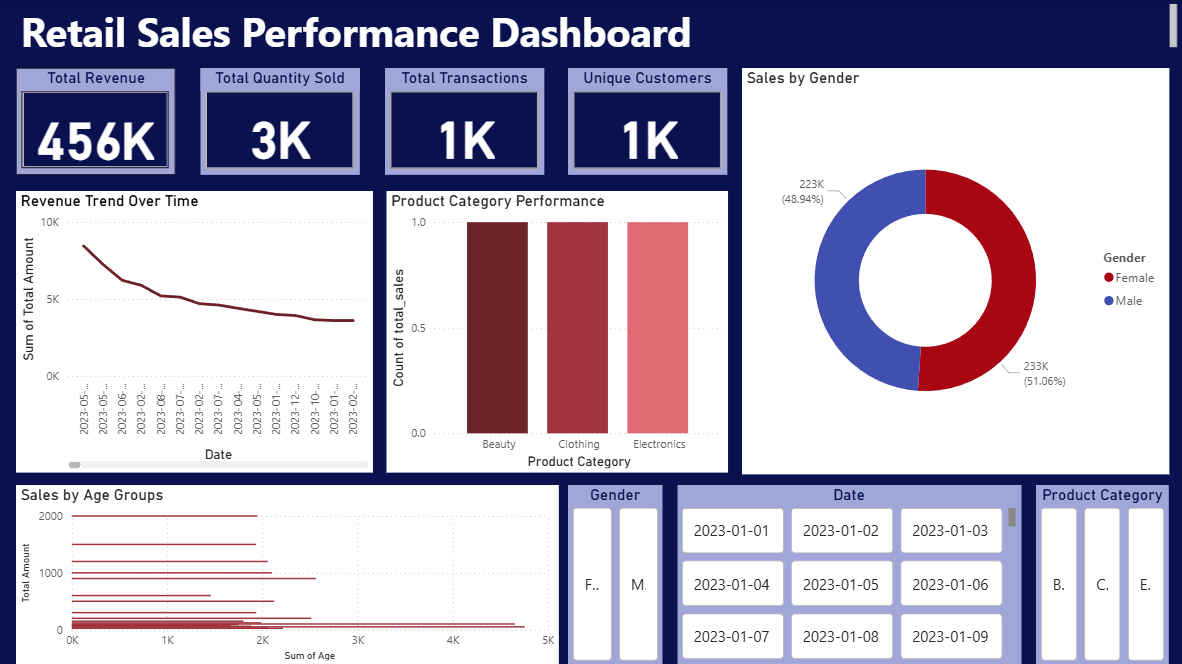

The page's visual inventory and layout, read from the dashboard file:
{"tool":"powerbi","page":{"name":"Page 1","canvas":[1280,720],"ordinal":0},"visuals":[{"type":"cardVisual","title":"Total Revenue","fields":{"Data":["Sum(retail_sales_db retail_sales_dataset.Total Amount)"]},"box":[18.9,73.7,172,115.3],"z":0},{"type":"cardVisual","title":"Total Quantity Sold","fields":{"Data":["Sum(retail_sales_db retail_sales_dataset.Quantity)"]},"box":[219.2,73.7,172,115.3],"z":1000},{"type":"cardVisual","title":"Total Transactions","fields":{"Data":["Count(retail_sales_db retail_sales_dataset.Transaction ID)"]},"box":[417.6,73.7,172,115.3],"z":2000},{"type":"cardVisual","title":"Unique Customers","fields":{"Data":["Count(retail_sales_db retail_sales_dataset.Customer ID)"]},"box":[616.1,73.7,172,115.3],"z":3000},{"type":"lineChart","title":"Revenue Trend Over Time","fields":{"Category":["retail_sales_db retail_sales_dataset.Date"],"Y":["Sum(retail_sales_db retail_sales_dataset.Total Amount)"]},"box":[18.9,207.9,385.5,304.3],"z":4000},{"type":"clusteredColumnChart","title":"Product Category Performance","fields":{"Category":["retail_sales_db category_performance.Product Category"],"Y":["CountNonNull(retail_sales_db category_performance.total_sales)"]},"box":[419.5,207.9,368.5,304.3],"z":5000},{"type":"donutChart","title":"Sales by Gender","fields":{"Category":["retail_sales_db retail_sales_dataset.Gender"],"Y":["Sum(retail_sales_db retail_sales_dataset.Total Amount)"]},"box":[803.2,73.7,461.1,438.4],"z":6000},{"type":"barChart","title":"Sales by Age Groups","fields":{"Category":["retail_sales_db retail_sales_dataset.Total Amount"],"Y":["Sum(retail_sales_db retail_sales_dataset.Age)"]},"box":[18.9,525.4,585.8,194.6],"z":7000},{"type":"textbox","box":[19.4,0,1258.1,61.5],"z":8000},{"type":"advancedSlicerVisual","fields":{"Values":["retail_sales_db retail_sales_dataset.Date"]},"box":[733.2,525.4,370.4,194.6],"z":9000},{"type":"advancedSlicerVisual","fields":{"Values":["retail_sales_db retail_sales_dataset.Gender"]},"box":[616.1,525.4,102,194.6],"z":10000},{"type":"advancedSlicerVisual","fields":{"Values":["retail_sales_db category_performance.Product Category"]},"box":[1120.6,525.4,143.6,194.6],"z":11000}]}

Visuals, with their boxes in screenshot pixels (x1, y1, x2, y2), scaled from the page's 1280x720 canvas onto the 1182x664 screenshot:
"Total Revenue" cardVisual: bbox(17, 68, 176, 174)
"Total Quantity Sold" cardVisual: bbox(202, 68, 361, 174)
"Total Transactions" cardVisual: bbox(386, 68, 544, 174)
"Unique Customers" cardVisual: bbox(569, 68, 728, 174)
"Revenue Trend Over Time" lineChart: bbox(17, 192, 373, 472)
"Product Category Performance" clusteredColumnChart: bbox(387, 192, 728, 472)
"Sales by Gender" donutChart: bbox(742, 68, 1168, 472)
"Sales by Age Groups" barChart: bbox(17, 485, 558, 663)
textbox: bbox(18, 0, 1180, 57)
advancedSlicerVisual - retail_sales_db retail_sales_dataset.Date: bbox(677, 485, 1019, 663)
advancedSlicerVisual - retail_sales_db retail_sales_dataset.Gender: bbox(569, 485, 663, 663)
advancedSlicerVisual - retail_sales_db category_performance.Product Category: bbox(1035, 485, 1167, 663)
